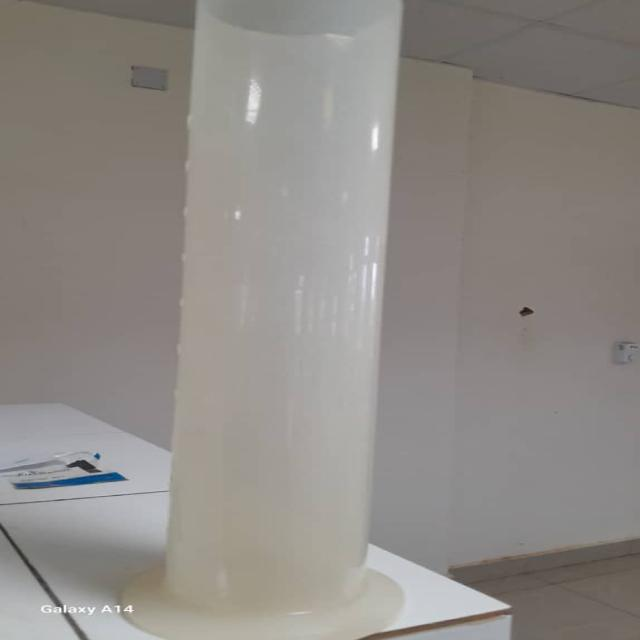Measuring Cylinder: (124, 4, 411, 640)
